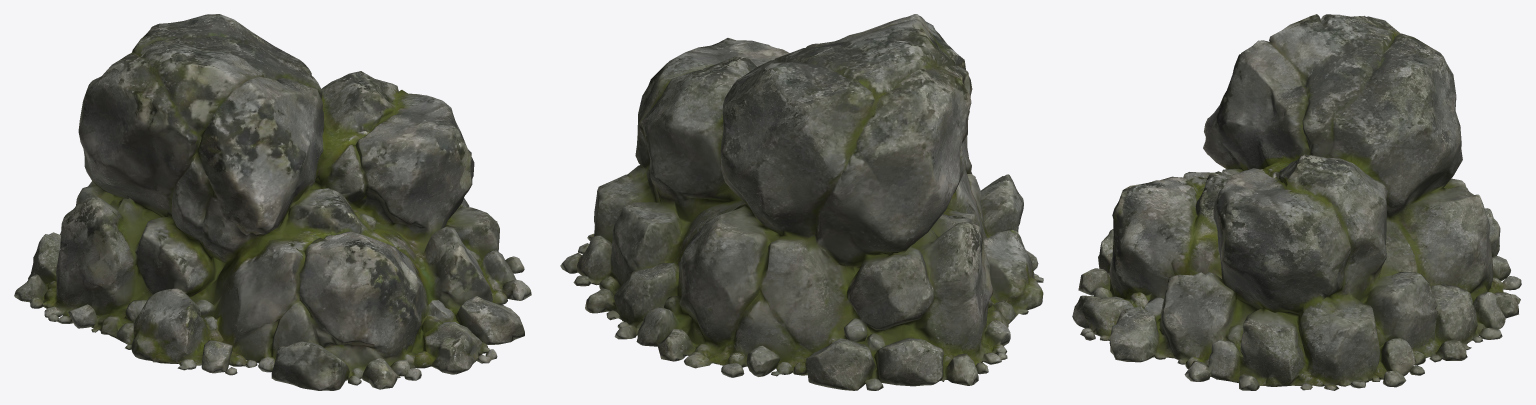
File: t951_boulders_a.glb
The picture shows the model from 3 angles, left to right: view 1: azimuth 30°, elevation 25°; view 2: azimuth 150°, elevation 25°; view 3: azimuth 270°, elevation 25°; orthographic projection. The views are drawn at different scales.
Visible parts, largest first — view 1: tripo_node_f97ee94d-6a0c-4c11-ab77-ec863ce53393; view 2: tripo_node_f97ee94d-6a0c-4c11-ab77-ec863ce53393; view 3: tripo_node_f97ee94d-6a0c-4c11-ab77-ec863ce53393.
Part boxes in pixels (x1,y1,x2,y2): tripo_node_f97ee94d-6a0c-4c11-ab77-ec863ce53393: [14, 14, 531, 390]; tripo_node_f97ee94d-6a0c-4c11-ab77-ec863ce53393: [560, 14, 1043, 390]; tripo_node_f97ee94d-6a0c-4c11-ab77-ec863ce53393: [1072, 14, 1521, 390].
Size of the model in its own units: 0.9677 by 0.5744 by 0.9795.
1 material, 1 textured.
